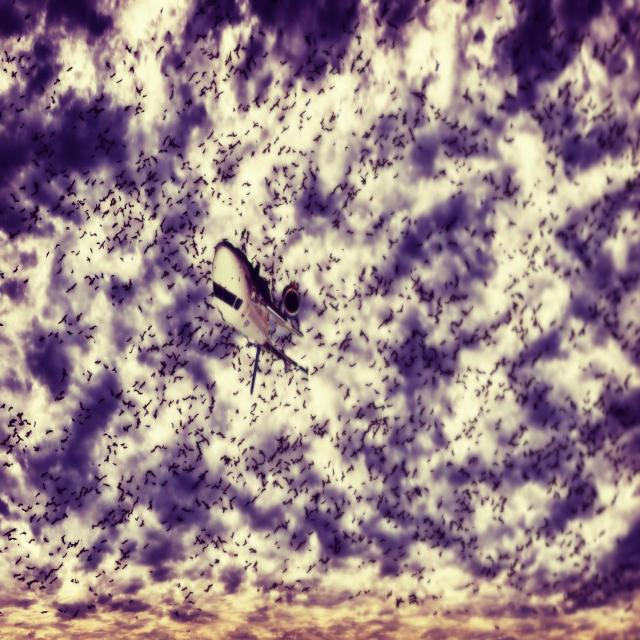airplane: (211, 238, 308, 395)
